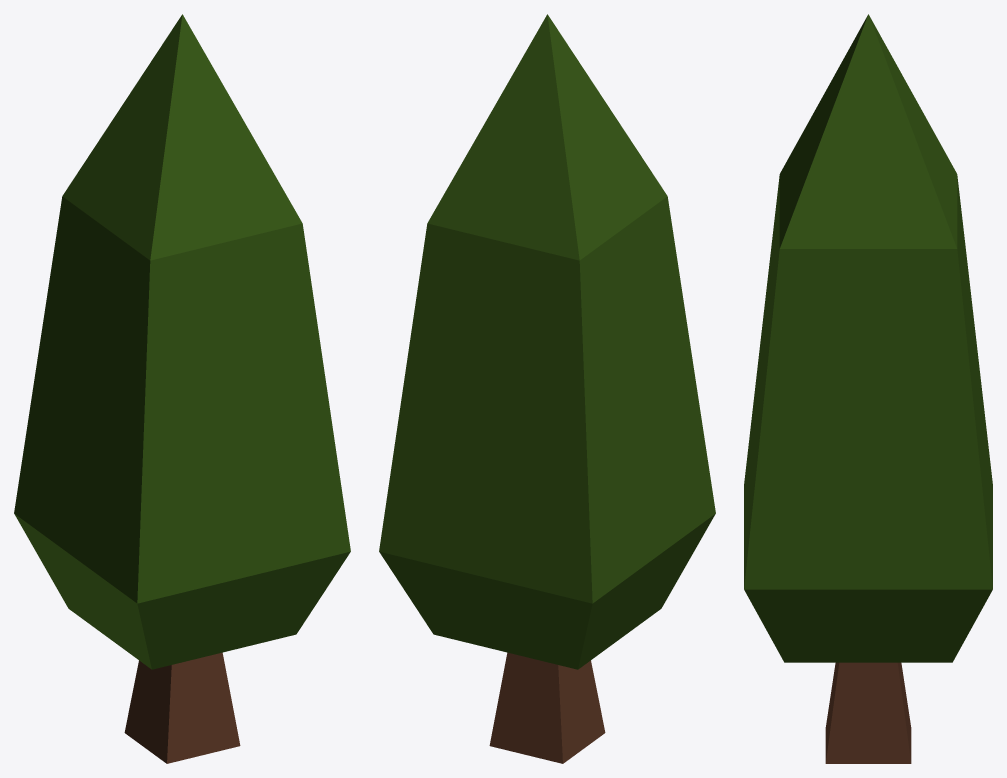
The model's file is tree-003.gltf.
The picture shows the model from 3 angles, left to right: view 1: azimuth 30°, elevation 25°; view 2: azimuth 150°, elevation 25°; view 3: azimuth 270°, elevation 25°; orthographic projection.
Parts seen in each view (by area): view 1: Tree.003; view 2: Tree.003; view 3: Tree.003.
Part boxes in pixels (bbox=[...]): Tree.003: bbox=[14, 14, 350, 763]; Tree.003: bbox=[379, 14, 715, 763]; Tree.003: bbox=[744, 14, 992, 763].
Bounding box in the file's own units: 0.9056 × 2.94 × 0.9056.
1 material, 1 textured.
